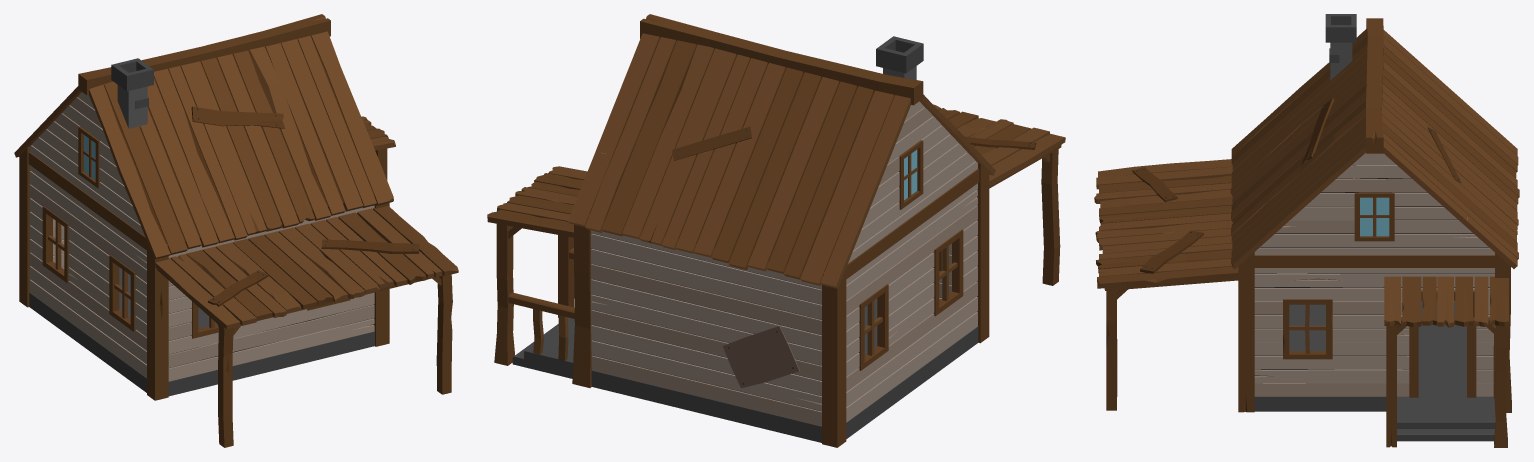
Rendered from House_01.fbx.
The picture shows the model from 3 angles, left to right: view 1: azimuth 30°, elevation 25°; view 2: azimuth 150°, elevation 25°; view 3: azimuth 270°, elevation 25°; orthographic projection. The views are drawn at different scales.
Visible parts, largest first — view 1: House_01; view 2: House_01; view 3: House_01.
Boxes of the visible parts, left/top/right/bottom form: House_01: left=14, top=14, right=458, bottom=447; House_01: left=487, top=14, right=1065, bottom=447; House_01: left=1094, top=14, right=1519, bottom=447.
Bounding box in the file's own units: 699 × 601 × 796.
